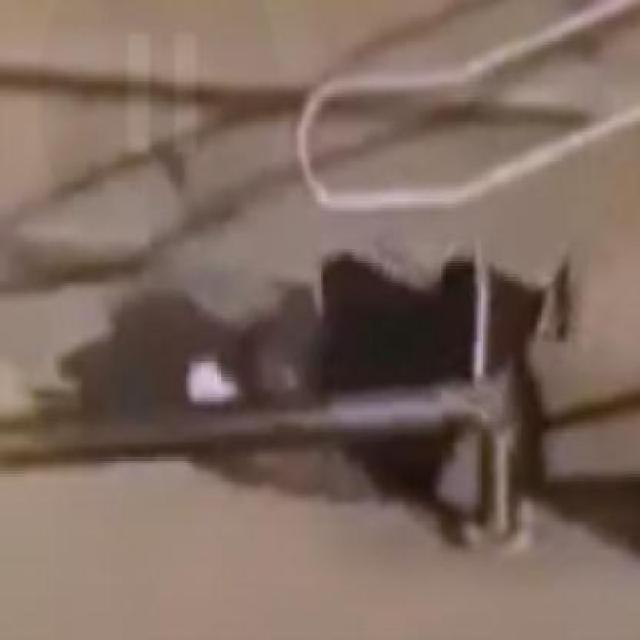fall: (214, 244, 568, 501)
